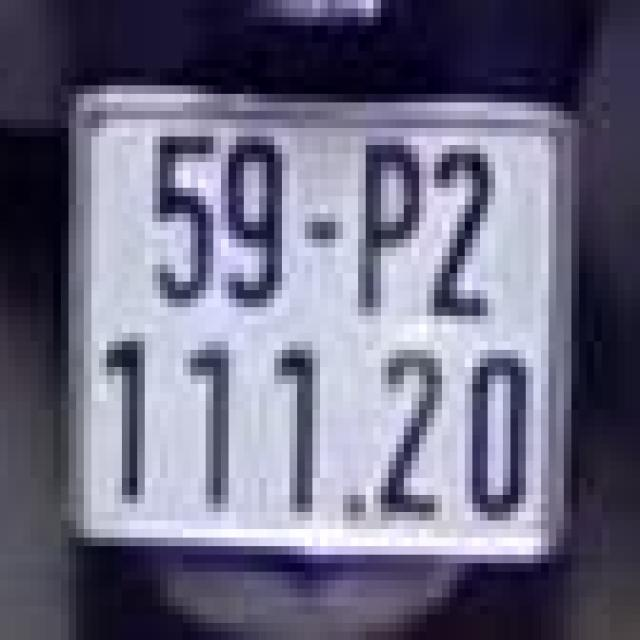0: (461, 342, 537, 520)
1: (168, 324, 244, 521), (256, 333, 332, 529), (84, 320, 152, 516)
2: (427, 136, 503, 333), (373, 328, 442, 525)
5: (126, 124, 217, 311)
9: (213, 124, 297, 311)
P: (351, 124, 426, 328)
